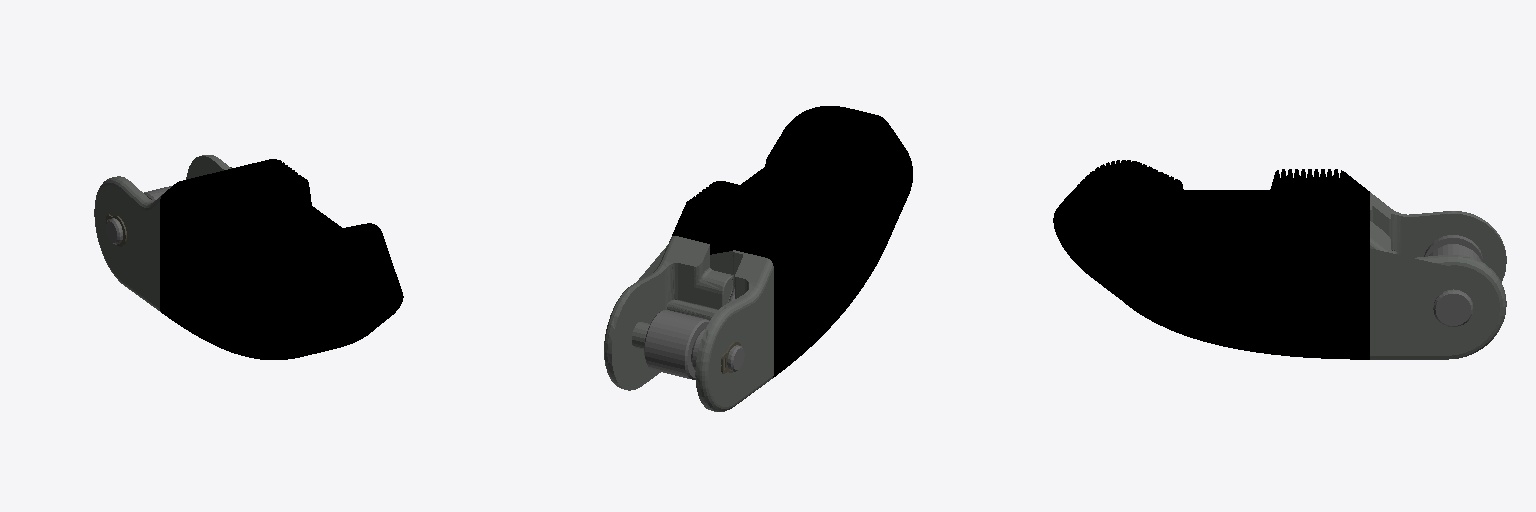
The model's file is mf_distal.obj.
3 views of the same model, side by side, from view 1: azimuth 30°, elevation 25°; view 2: azimuth 150°, elevation 25°; view 3: azimuth 270°, elevation 25° (orthographic).
Visible parts, largest first — view 1: middle_distal_tip_SIH_right.057, middle_distal_base_SIH_right.059; view 2: middle_distal_tip_SIH_right.057, middle_distal_base_SIH_right.059, middle_distal_spring_indication_SIH_right.055; view 3: middle_distal_tip_SIH_right.057, middle_distal_base_SIH_right.059, middle_distal_spring_indication_SIH_right.055.
Boxes of the visible parts, box(x1,y1,x2,y2) form: middle_distal_tip_SIH_right.057: box(160, 159, 403, 359); middle_distal_base_SIH_right.059: box(94, 155, 231, 311); middle_distal_tip_SIH_right.057: box(672, 106, 912, 377); middle_distal_base_SIH_right.059: box(604, 236, 773, 411); middle_distal_spring_indication_SIH_right.055: box(644, 286, 744, 379); middle_distal_tip_SIH_right.057: box(1053, 160, 1369, 359); middle_distal_base_SIH_right.059: box(1370, 192, 1506, 359); middle_distal_spring_indication_SIH_right.055: box(1424, 235, 1482, 326).
Size of the model in its own units: 20 by 26.5 by 68.04.